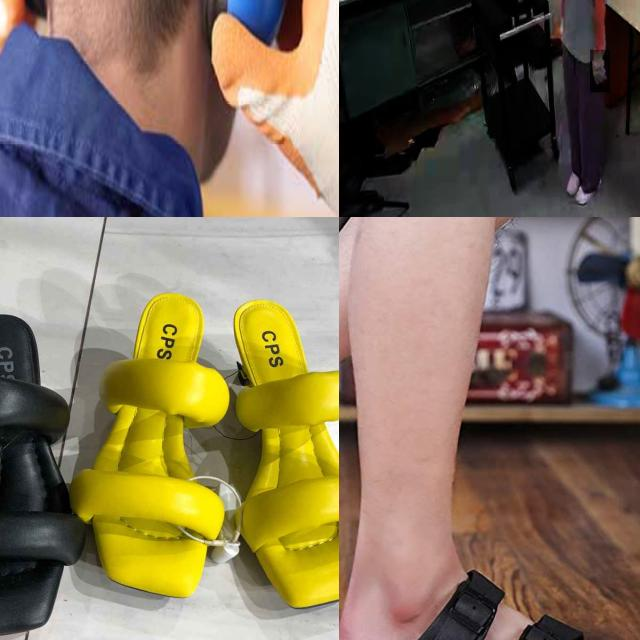Ear-protection: (0, 0, 304, 115)
Sandals: (72, 256, 339, 630), (0, 276, 79, 640), (339, 559, 640, 640)
hand_glove: (590, 50, 610, 93)
person: (544, 0, 621, 198)
shoes: (564, 164, 584, 197)
